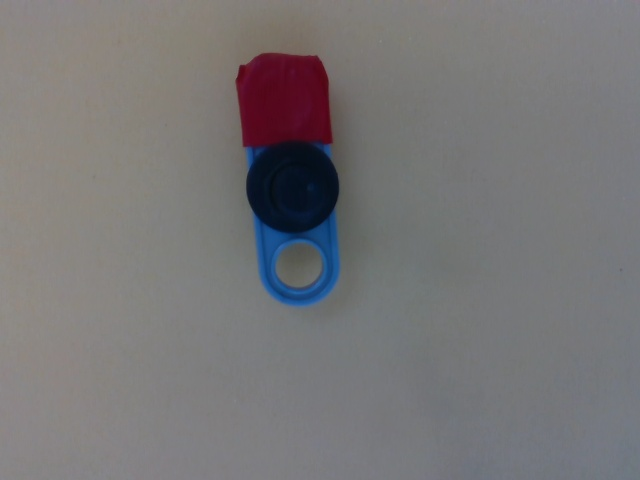part_1_good: (232, 49, 345, 312)
